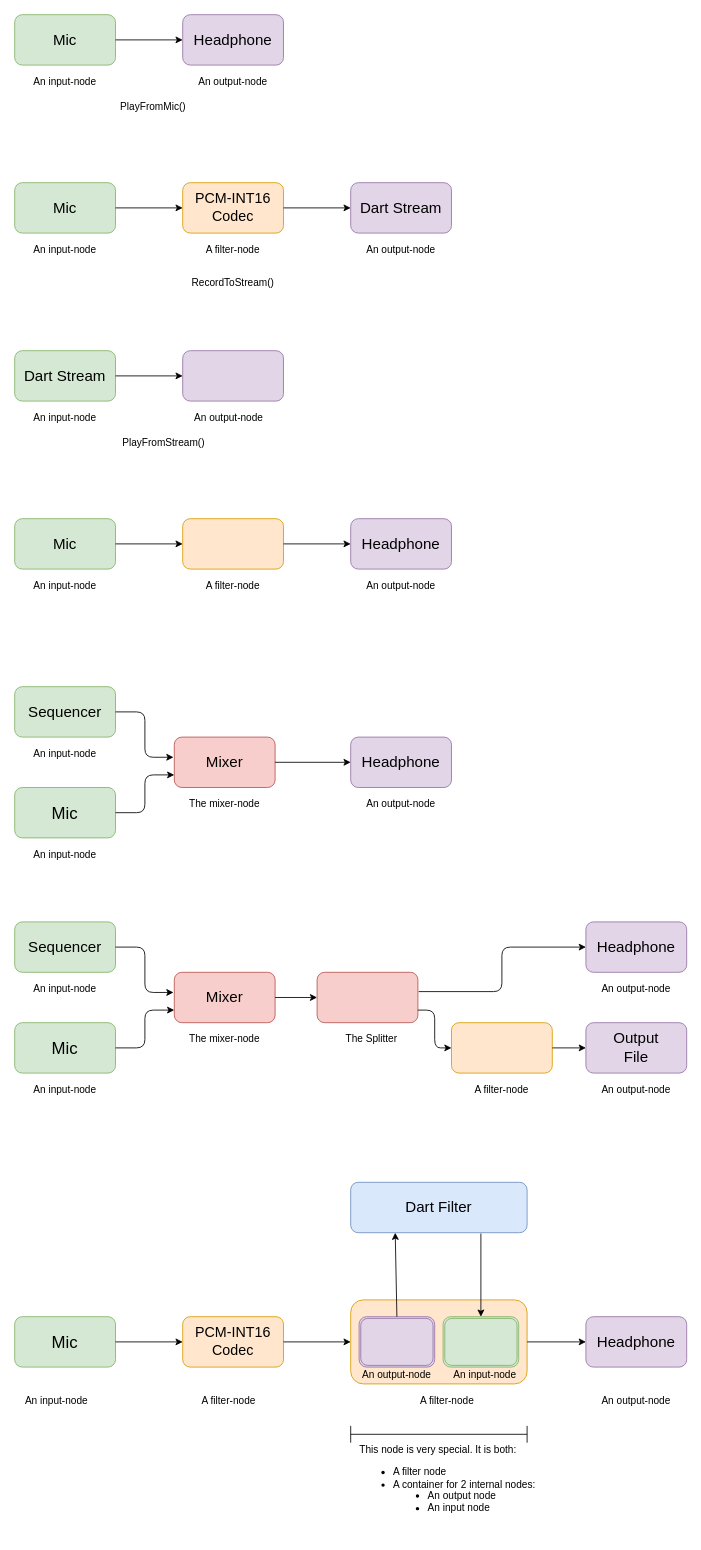
Some shapes in this 701 by 1550 pixel diagram are drawn without their labels. The centre of each missing label's shape, as x and y in pixels:
"Equalizer" belongs at point 233,543.
"Input Stream" belongs at point 480,1341.
"MP3 Codec" belongs at point 501,1047.
"Ouput Stream" belongs at point 396,1341.
"Speaker" belongs at point 233,375.
"Splitter" belongs at point 367,997.
